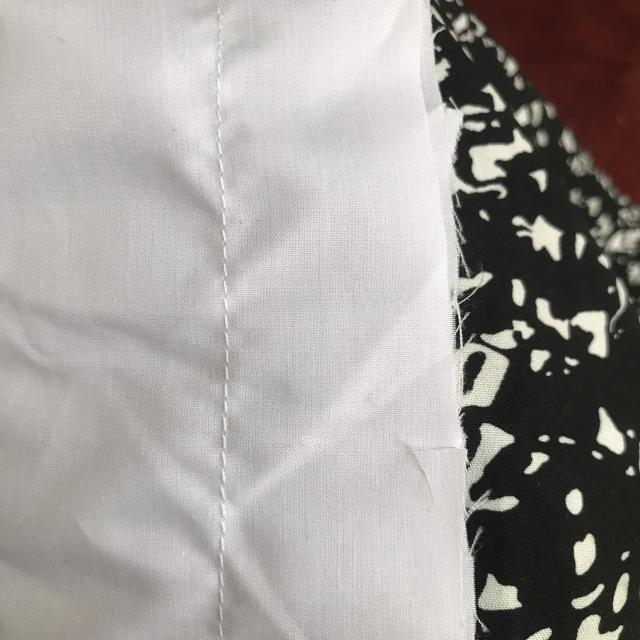good: (202, 92, 245, 294), (214, 327, 243, 607)
